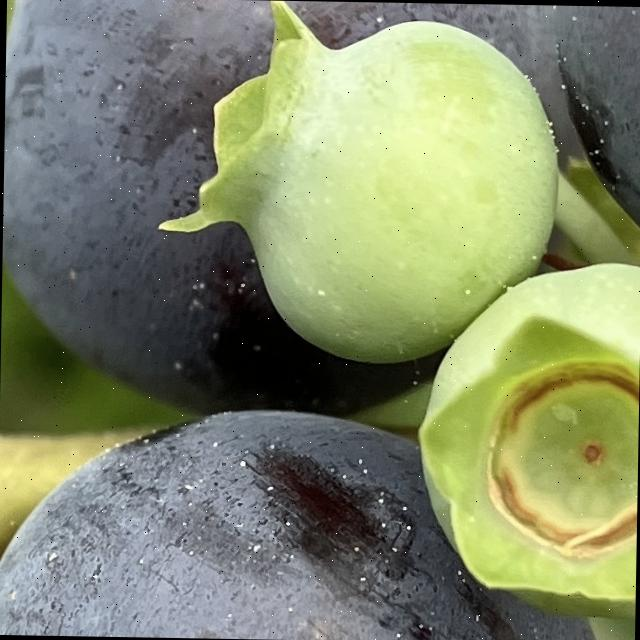Blueberries: (0, 397, 628, 640)
